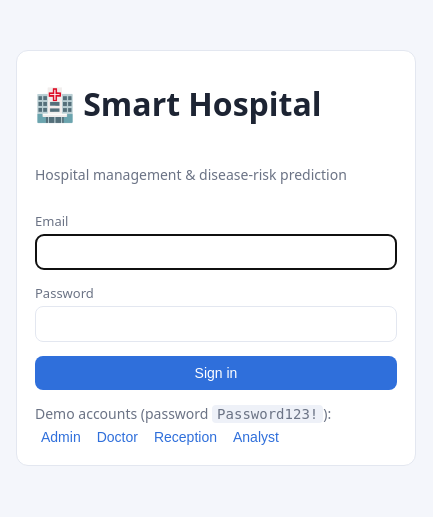
Test: Login page › fills demo credentials and shows server errors
The width and height of the screenshot is (433, 517).
Click the button "Doctor" at (117, 437), box left=91, top=427, right=144, bottom=447
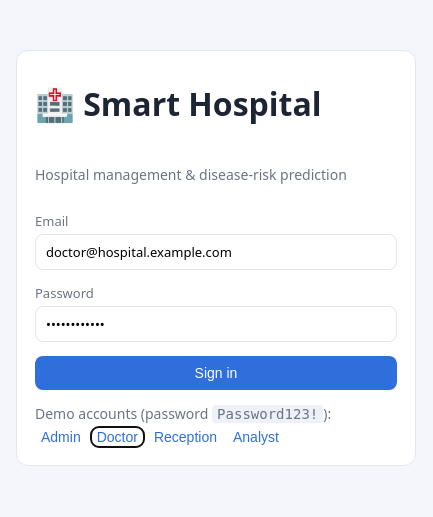
Result: the field labelled "Email" holds "doctor@hospital.example.com" at left=35, top=234, right=397, bottom=270
Click the button "Sign in" at (216, 373), box left=35, top=356, right=397, bottom=390
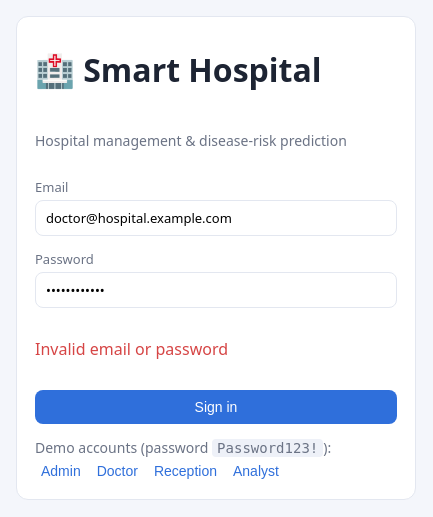
Result: the text "Invalid email or password" is shown at left=35, top=338, right=228, bottom=360
